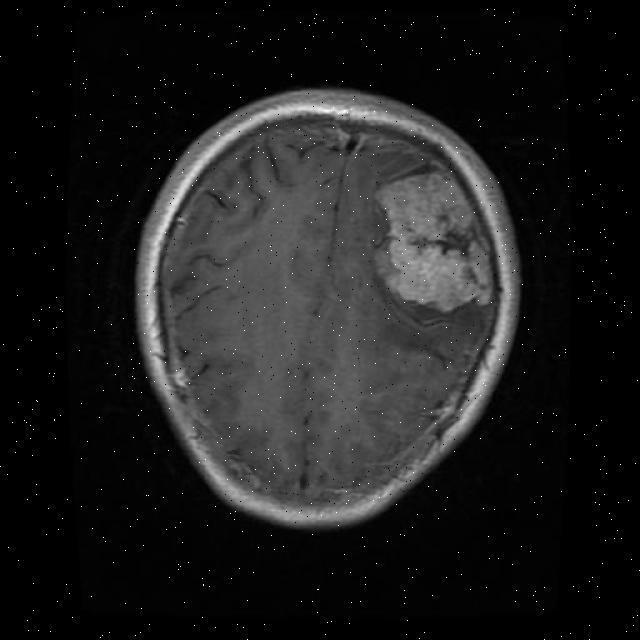Meningioma: (377, 172, 492, 311)
